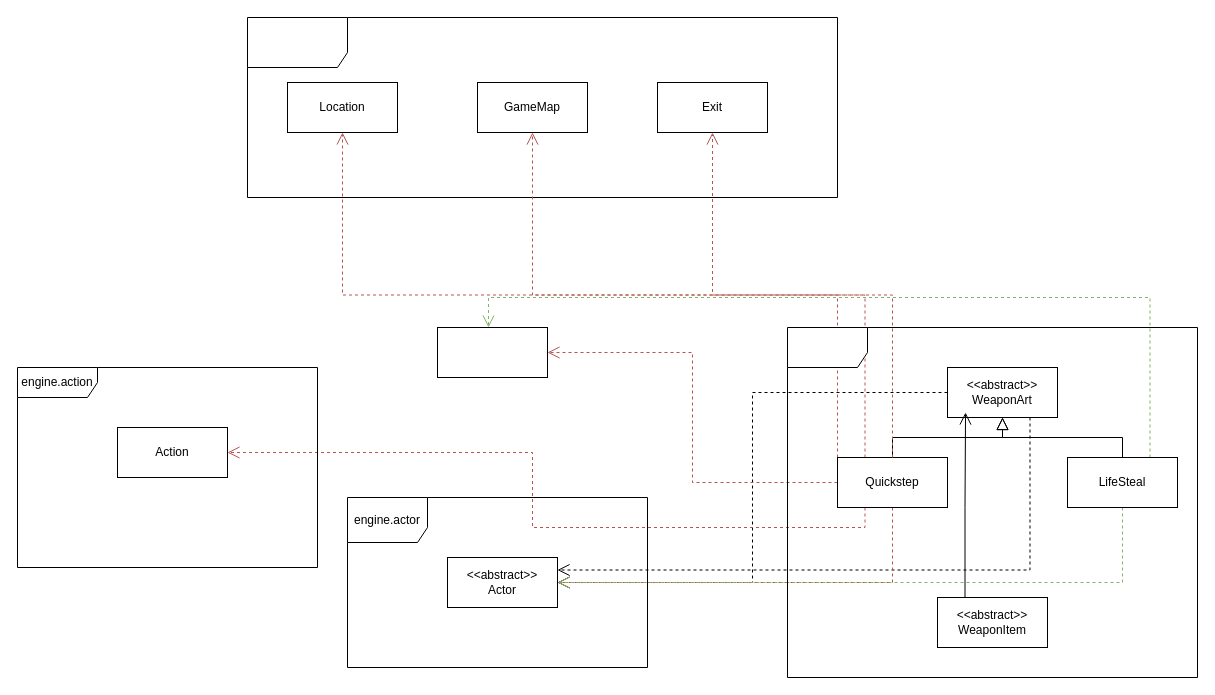
Image size: 1215x695. Some labels were removed from this diagram. Here are the shapes that lost their labels. From the top down, the box of each, then its label:
(246, 16, 838, 198): engine.positions
(436, 326, 548, 378): Application
(786, 326, 1198, 678): game.weapons
